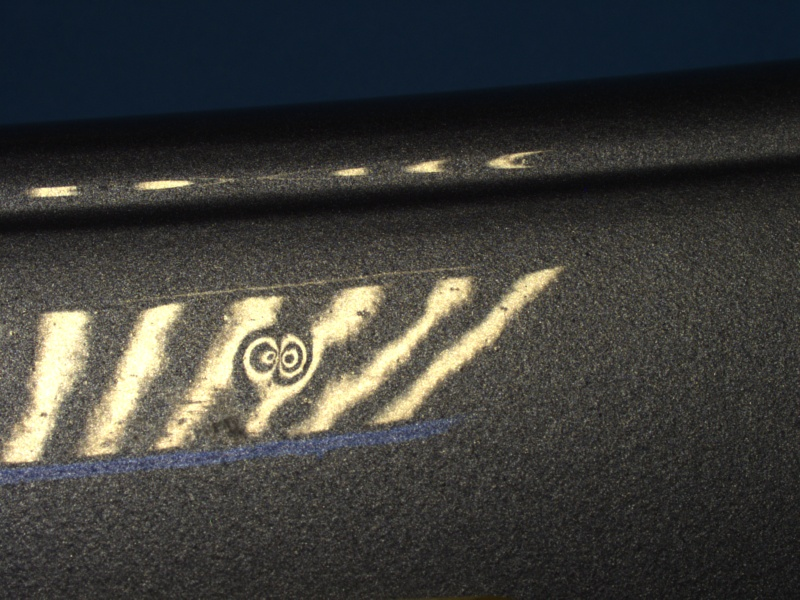bad: (237, 313, 327, 401)
